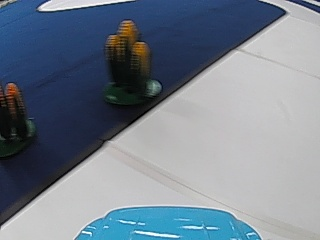corn: (102, 17, 160, 108), (1, 82, 35, 158)
